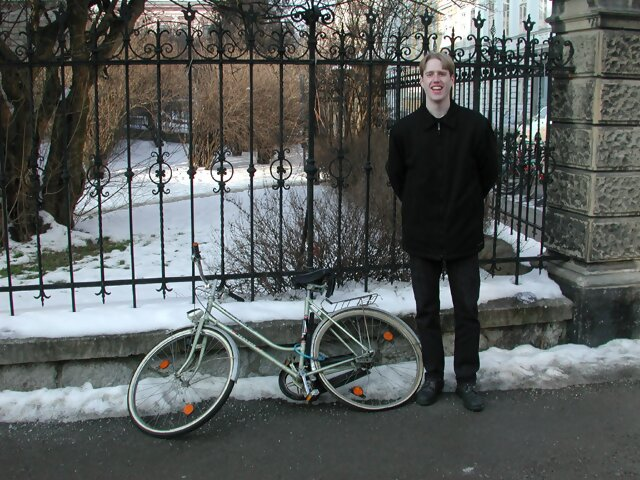person: (386, 47, 502, 415)
